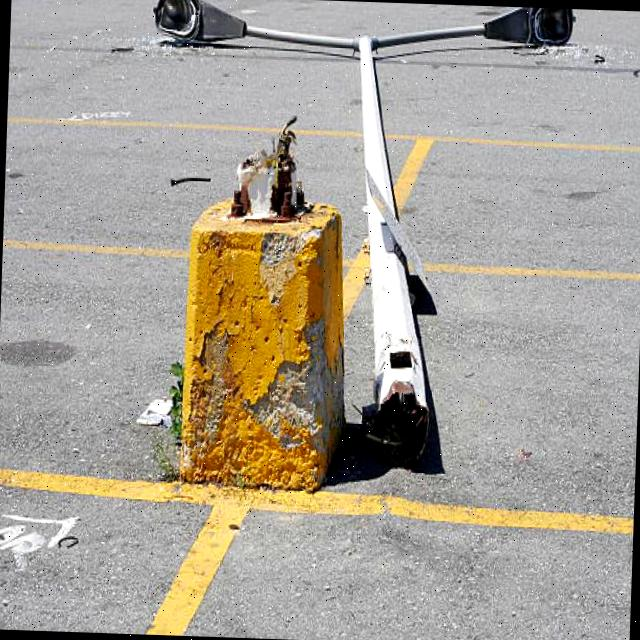Broken Pole: (125, 0, 606, 531)
